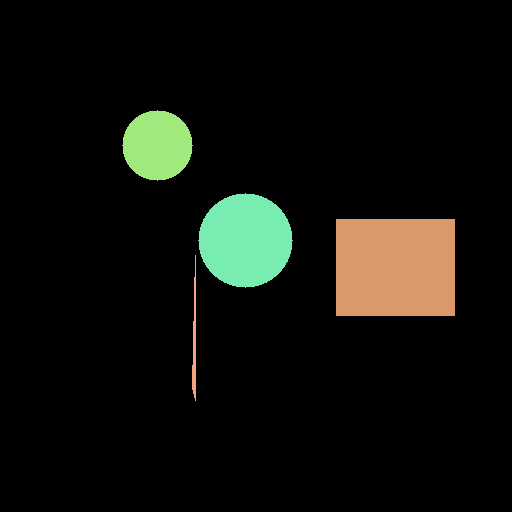circle: (198, 193, 292, 287), (122, 110, 192, 180)
rectangle: (336, 219, 454, 315)
